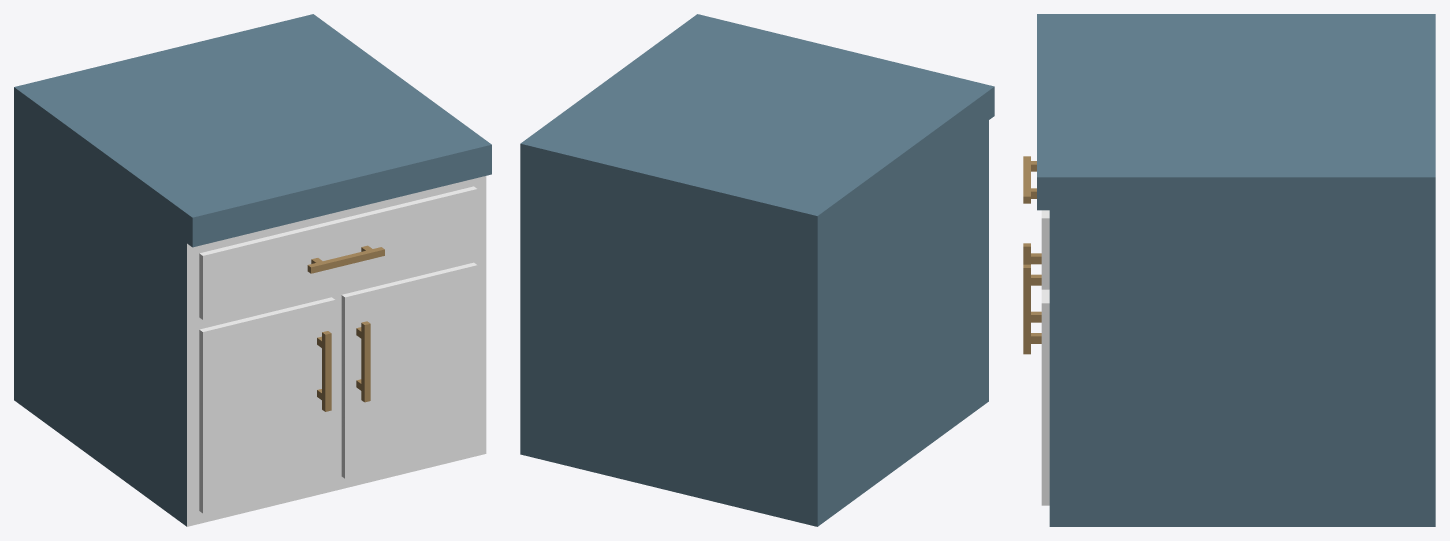
Rendered from Counter2_02.FBX.
3 renders of one model, left to right at view 1: azimuth 30°, elevation 25°; view 2: azimuth 150°, elevation 25°; view 3: azimuth 270°, elevation 25°, orthographic. The views are drawn at different scales.
Visible parts, largest first — view 1: KitchenCounter; view 2: KitchenCounter; view 3: KitchenCounter.
Boxes of the visible parts, x1,y1,x2,y2 form: KitchenCounter: (14, 14, 491, 526); KitchenCounter: (520, 14, 994, 526); KitchenCounter: (1023, 14, 1435, 526).
Bounding box in the file's own units: 91.18 × 91.18 × 97.4.
